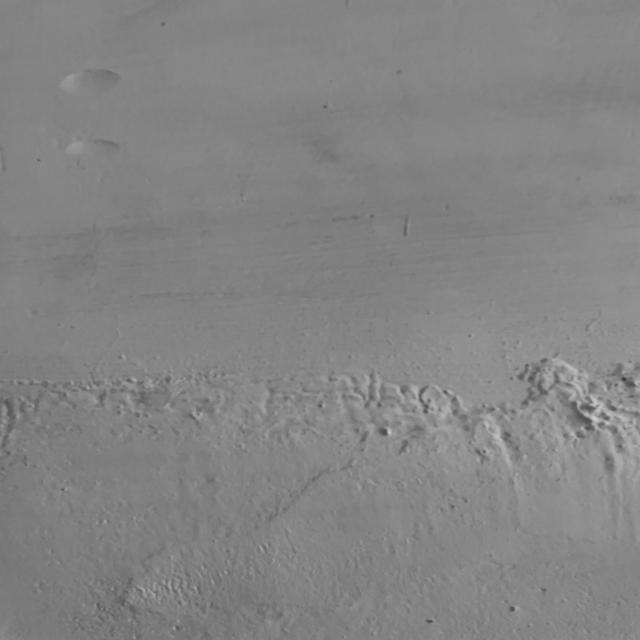rough and patchy surface: (0, 348, 640, 640), (7, 46, 144, 172)
stain marks: (0, 181, 640, 323), (382, 43, 640, 129), (273, 84, 386, 194), (144, 84, 271, 162)
